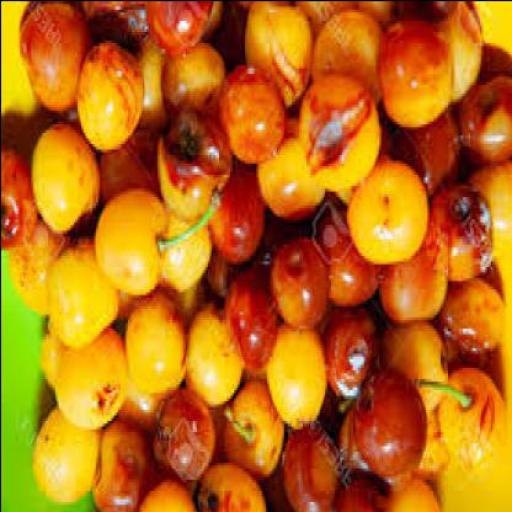biodegradable: (294, 78, 377, 199), (348, 372, 425, 492), (343, 156, 424, 264), (42, 244, 122, 350), (15, 3, 87, 118), (49, 325, 125, 433), (94, 190, 168, 300), (72, 42, 143, 156), (28, 120, 96, 238), (153, 109, 225, 218), (253, 112, 322, 224), (417, 185, 494, 283), (434, 372, 503, 481), (374, 28, 448, 128), (242, 3, 307, 109), (117, 302, 185, 403), (375, 226, 441, 328), (30, 406, 97, 506), (218, 61, 279, 165), (263, 335, 324, 434), (311, 219, 378, 307), (374, 330, 446, 411), (426, 3, 482, 107), (222, 384, 280, 484), (95, 128, 159, 218), (309, 20, 380, 101), (266, 241, 328, 333), (385, 114, 454, 196), (9, 224, 67, 319), (221, 277, 277, 375), (186, 308, 239, 411), (322, 313, 376, 414), (156, 50, 222, 132), (449, 79, 510, 167), (89, 423, 150, 511), (432, 285, 498, 364), (152, 398, 212, 484), (278, 423, 336, 511), (456, 151, 510, 244), (207, 173, 257, 266), (115, 280, 201, 330), (154, 218, 205, 300), (139, 3, 211, 59), (0, 148, 36, 254), (192, 464, 265, 512), (74, 3, 150, 45), (407, 411, 447, 484), (134, 48, 164, 137), (210, 3, 248, 67), (200, 257, 242, 310), (329, 478, 389, 510), (134, 481, 193, 511), (351, 3, 408, 34), (385, 481, 443, 511), (39, 330, 63, 397), (294, 3, 358, 28), (186, 3, 221, 45), (202, 258, 234, 302), (207, 400, 226, 470)
